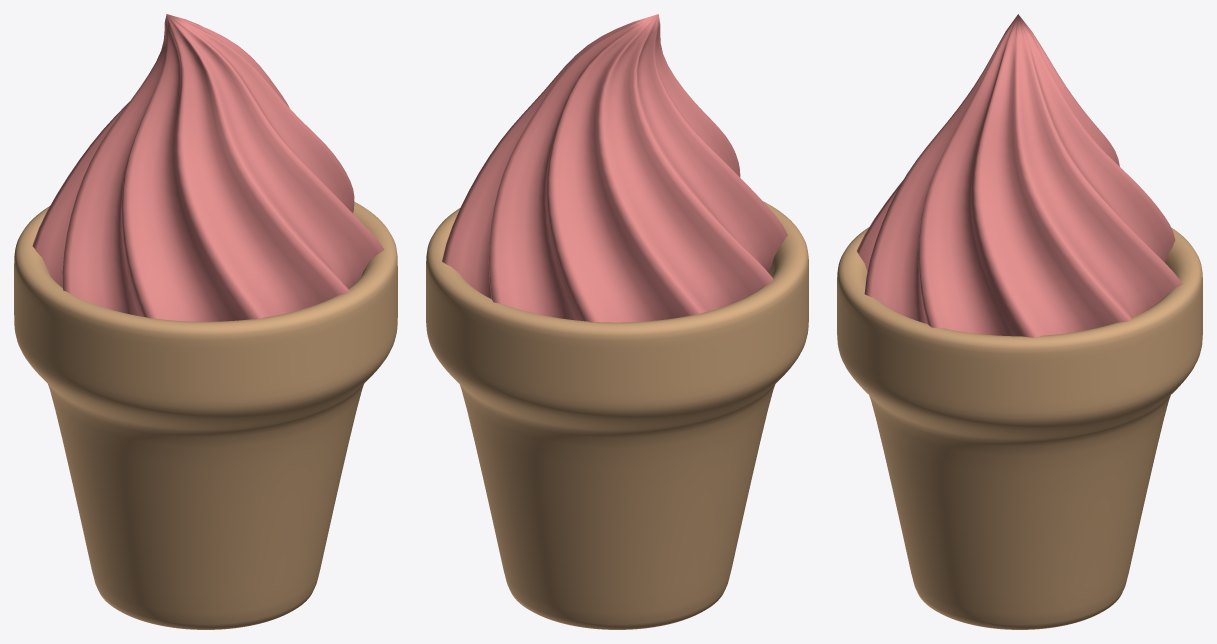
File: StrawberryIceCream.fbx
3 renders of one model, left to right at view 1: azimuth 30°, elevation 25°; view 2: azimuth 150°, elevation 25°; view 3: azimuth 270°, elevation 25°, orthographic. The views are drawn at different scales.
Visible parts, largest first — view 1: StrawberryIceCreamCone, StrawberryIceCream; view 2: StrawberryIceCreamCone, StrawberryIceCream; view 3: StrawberryIceCreamCone, StrawberryIceCream.
Part boxes in pixels (<box>): StrawberryIceCreamCone: <box>14,201,397,629</box>; StrawberryIceCream: <box>32,14,384,321</box>; StrawberryIceCreamCone: <box>426,201,808,629</box>; StrawberryIceCream: <box>442,14,787,322</box>; StrawberryIceCreamCone: <box>837,227,1202,629</box>; StrawberryIceCream: <box>857,14,1182,337</box>.
Size of the model in its own units: 51.26 by 86.04 by 51.26.
